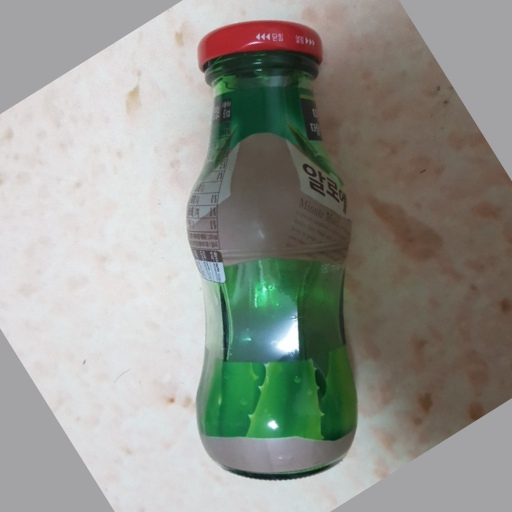Glass_4: (184, 16, 367, 477)
